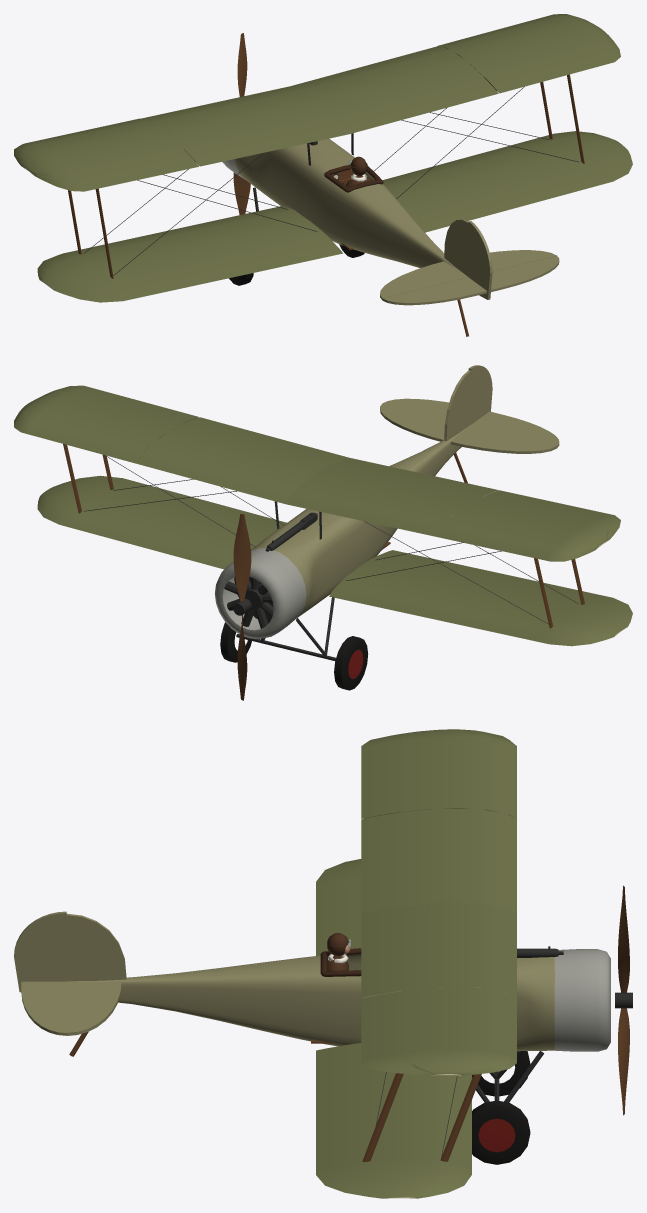
Rendered from sopwith_pup.glb.
The picture shows the model from 3 angles, top to bottom: view 1: azimuth 30°, elevation 25°; view 2: azimuth 150°, elevation 25°; view 3: azimuth 270°, elevation 25°; orthographic projection. The views are drawn at different scales.
Parts seen in each view (by area): view 1: Wing_Lower_L, Wing_Upper_R, Wing_Upper_L, Wing_Lower_R, Fuselage, Aileron_L, Aileron_R, Elevator, Stabilizer_L, Wires, Rudder, Struts (+5 smaller); view 2: Wing_Upper_R, Wing_Upper_L, Wing_Lower_L, Wing_Lower_R, Fuselage, Cowling, Elevator, Wheels, PropBlades, Stabilizer_L, Aileron_L, Aileron_R (+8 smaller); view 3: Wing_Upper_L, Wing_Upper_R, Wing_Lower_R, Fuselage, Cowling, Wheels, Wing_Lower_L, Aileron_R, Fin, Rudder, Aileron_L, Stabilizer_R (+5 smaller).
Part boxes in pixels (x1=…): Wing_Lower_L: x1=37, y1=205, x2=343, y2=302; Wing_Upper_R: x1=291, y1=14, x2=608, y2=133; Wing_Upper_L: x1=14, y1=86, x2=349, y2=175; Wing_Lower_R: x1=382, y1=131, x2=632, y2=232; Fuselage: x1=235, y1=138, x2=466, y2=275; Aileron_L: x1=31, y1=149, x2=198, y2=191; Aileron_R: x1=483, y1=34, x2=620, y2=93; Elevator: x1=382, y1=256, x2=559, y2=305; Stabilizer_L: x1=380, y1=261, x2=468, y2=300; Wires: x1=84, y1=86, x2=578, y2=275; Rudder: x1=468, y1=221, x2=492, y2=299; Struts: x1=68, y1=74, x2=584, y2=278; Wing_Upper_R: x1=14, y1=391, x2=349, y2=504; Wing_Upper_L: x1=286, y1=458, x2=608, y2=561; Wing_Lower_L: x1=329, y1=550, x2=632, y2=646; Wing_Lower_R: x1=37, y1=475, x2=286, y2=569; Fuselage: x1=251, y1=426, x2=468, y2=618; Cowling: x1=214, y1=548, x2=306, y2=639; Elevator: x1=383, y1=398, x2=559, y2=447; Wheels: x1=220, y1=622, x2=368, y2=690; PropBlades: x1=233, y1=514, x2=251, y2=700; Stabilizer_L: x1=451, y1=425, x2=557, y2=453; Aileron_L: x1=483, y1=490, x2=620, y2=541; Aileron_R: x1=46, y1=385, x2=198, y2=423; Wing_Upper_L: x1=361, y1=729, x2=516, y2=913; Wing_Upper_R: x1=361, y1=902, x2=516, y2=1075; Wing_Lower_R: x1=316, y1=1043, x2=471, y2=1198; Fuselage: x1=71, y1=954, x2=554, y2=1051; Cowling: x1=554, y1=949, x2=610, y2=1051; Wheels: x1=472, y1=1051, x2=530, y2=1164; Wing_Lower_L: x1=316, y1=859, x2=361, y2=955; Aileron_R: x1=361, y1=991, x2=436, y2=1075; Fin: x1=66, y1=913, x2=126, y2=981; Rudder: x1=14, y1=911, x2=66, y2=992; Aileron_L: x1=361, y1=732, x2=414, y2=818; Stabilizer_R: x1=66, y1=981, x2=121, y2=1035.
Size of the model in its own units: 8.08 by 2.66 by 6.16.
